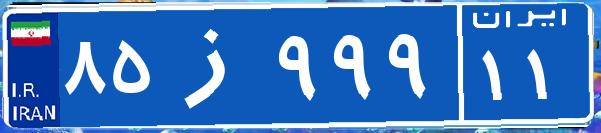1: (475, 38, 525, 113), (525, 38, 570, 115)
5: (110, 28, 158, 105)
8: (57, 26, 110, 107)
9: (385, 28, 445, 110), (273, 28, 330, 110), (330, 28, 385, 110)
ز: (158, 15, 273, 115)
